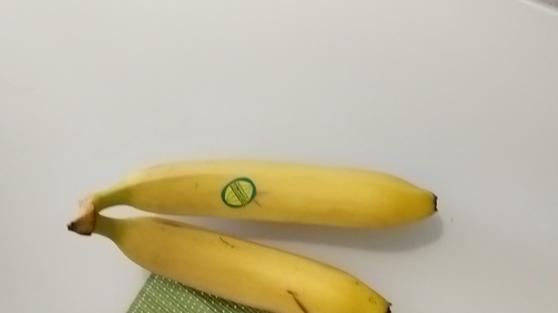banana: (57, 212, 396, 313), (89, 158, 439, 228)
